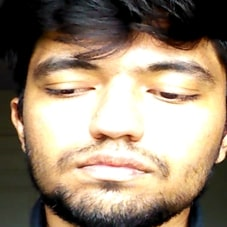drowsy: (28, 46, 227, 191)
